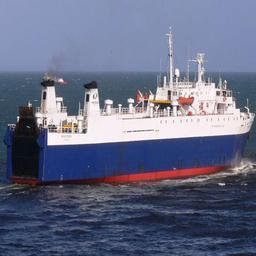Ship: (4, 45, 256, 189)
